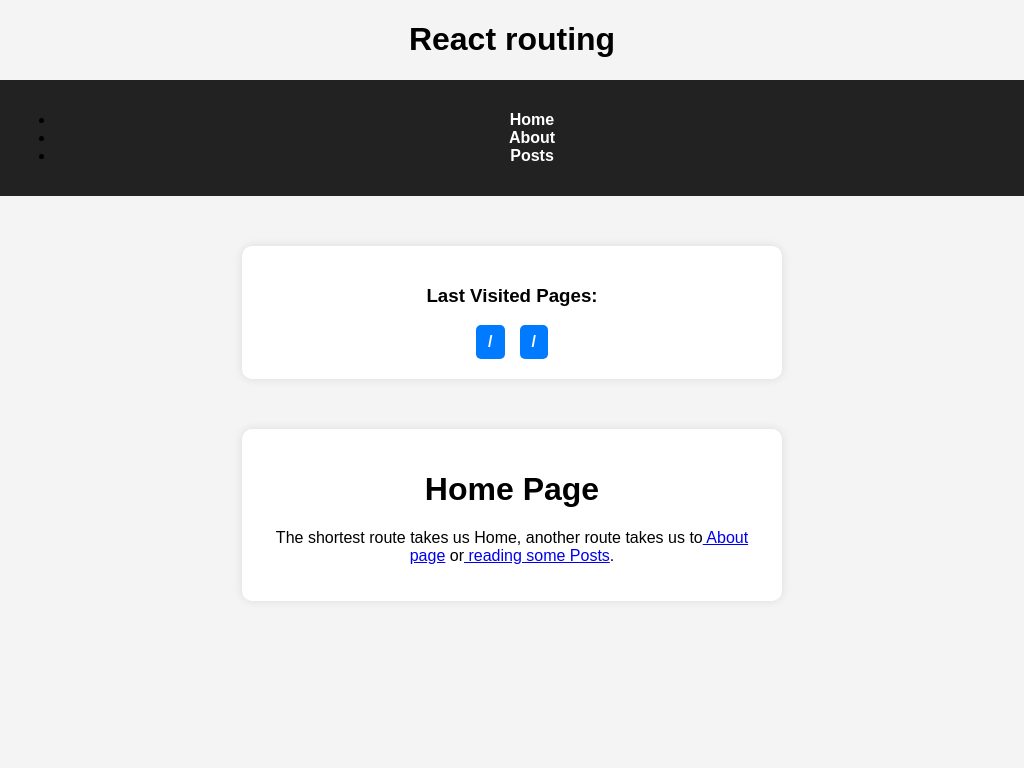
it: React Routing E2E Tests › should navigate to the About page
The width and height of the screenshot is (1024, 768).
Click the link "About". click: click(532, 138)
box: [509, 129, 555, 146]
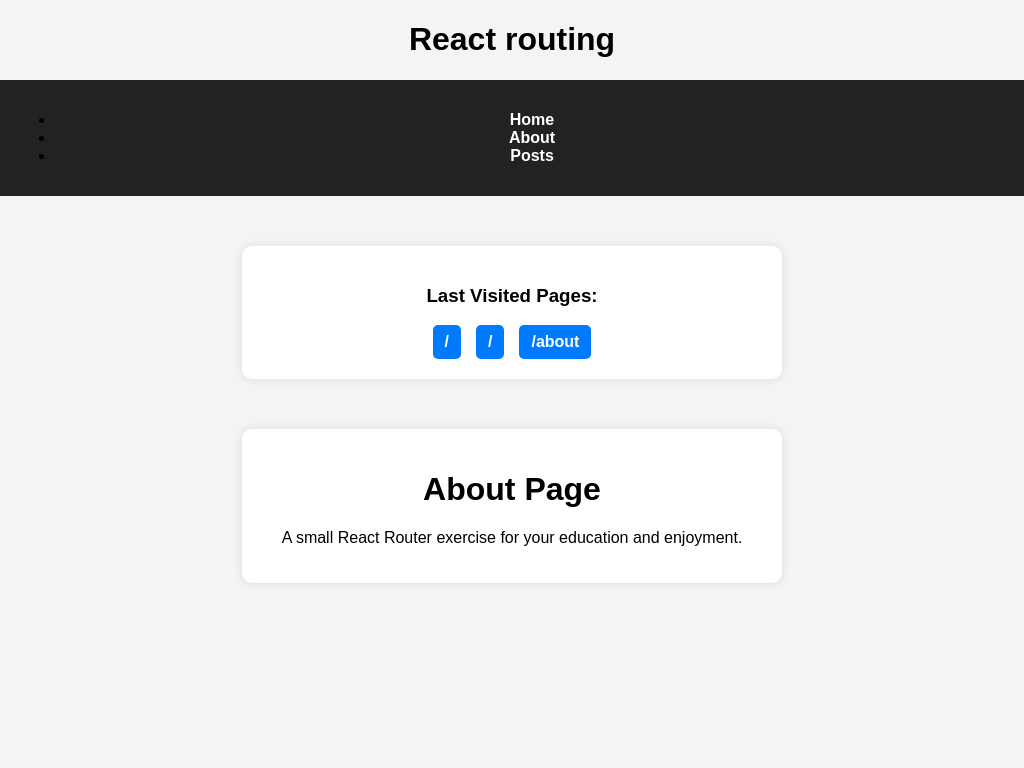
Expected: the heading "About Page" is shown, [423, 471, 601, 507]
